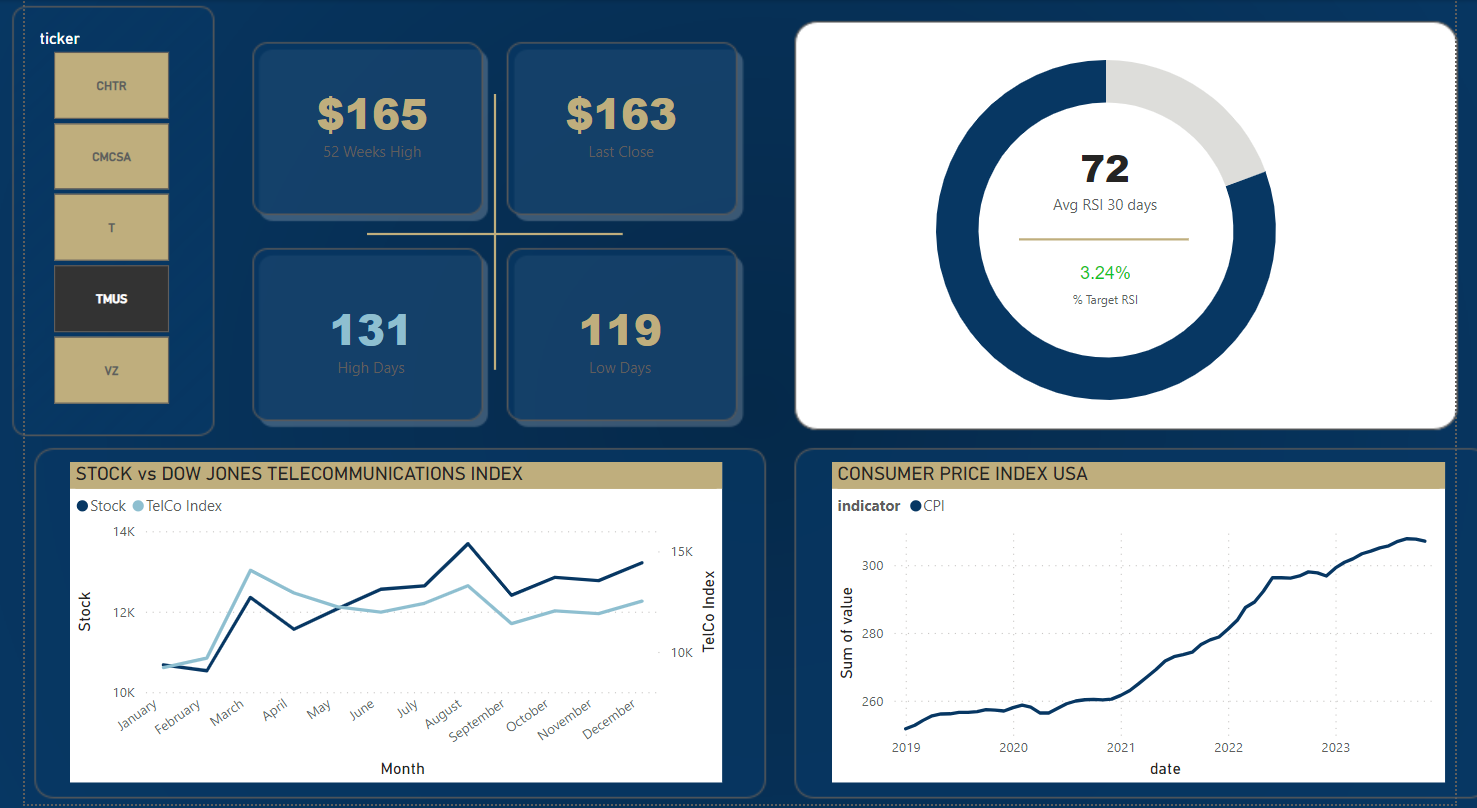

This screenshot's page, from the dashboard's own definition file:
{"tool":"powerbi","page":{"name":"Page 1","canvas":[1280,720],"ordinal":0},"visuals":[{"type":"donutChart","fields":{"Y":["Key_ Indicators.RSI","Key_ Indicators.RSI Target"]},"box":[694.1,10.9,548.1,390.4],"z":0},{"type":"slicer","fields":{"Values":["public stocks.ticker"]},"box":[23.3,21.6,153.5,361.4],"z":1000},{"type":"lineChart","title":"STOCK vs DOW JONES TELECOMMUNICATIONS INDEX","fields":{"Y":["Sum(public stocks.close)"],"Y2":["Sum(public telco_idx.close)"],"Category":["Calendar.Date.Variation.Date Hierarchy.Year","Calendar.Date.Variation.Date Hierarchy.Quarter","Calendar.Date.Variation.Date Hierarchy.Month","Calendar.Date.Variation.Date Hierarchy.Day"]},"box":[44,424.4,583.9,287.2],"z":2000},{"type":"card","fields":{"Values":["Key_ Indicators.52 Weeks High"]},"box":[206,29.6,209.6,159.4],"z":3000},{"type":"lineChart","title":"CONSUMER PRICE INDEX USA","fields":{"Category":["Calendar.Date.Variation.Date Hierarchy.Year","Calendar.Date.Variation.Date Hierarchy.Quarter","Calendar.Date.Variation.Date Hierarchy.Month","Calendar.Date.Variation.Date Hierarchy.Day"],"Y":["Sum(public stocks.ma180)","Sum(public stocks.ma7)"],"Y2":["Sum(public indicators.value)"]},"box":[712.5,424.4,548.6,287.2],"z":4000},{"type":"card","fields":{"Values":["Key_ Indicators.Average RSI"]},"box":[901.6,114,131,90.8],"z":5000},{"type":"card","fields":{"Values":["Key_ Indicators.% Target RSI"]},"box":[895.7,215.4,143.8,74.5],"z":6000},{"type":"shape","box":[889.9,168.8,152,92],"z":7000},{"type":"card","fields":{"Values":["Key_ Indicators.Last Close"]},"box":[427.2,29.6,213.1,159.4],"z":8000},{"type":"card","fields":{"Values":["Key_ Indicators.High Days"]},"box":[205.1,223,209.6,159.4],"z":9000},{"type":"card","fields":{"Values":["Key_ Indicators.Low Days"]},"box":[426.3,223,213.1,159.4],"z":10000},{"type":"shape","box":[307.1,188,229.4,53.5],"z":11000},{"type":"shape","box":[408.8,92.3,43.1,246.7],"z":12000}]}

Visuals, with their boxes in screenshot pixels (x1, y1, x2, y2), scaled from the page's 1280x720 canvas onto the 1477x808 screenshot:
donutChart - Key_ Indicators.RSI x Key_ Indicators.RSI Target: (left=801, top=12, right=1433, bottom=450)
slicer - public stocks.ticker: (left=27, top=24, right=204, bottom=430)
"STOCK vs DOW JONES TELECOMMUNICATIONS INDEX" lineChart: (left=51, top=476, right=725, bottom=799)
card - Key_ Indicators.52 Weeks High: (left=238, top=33, right=480, bottom=212)
"CONSUMER PRICE INDEX USA" lineChart: (left=822, top=476, right=1455, bottom=799)
card - Key_ Indicators.Average RSI: (left=1040, top=128, right=1192, bottom=230)
card - Key_ Indicators.% Target RSI: (left=1034, top=242, right=1199, bottom=325)
shape: (left=1027, top=189, right=1202, bottom=293)
card - Key_ Indicators.Last Close: (left=493, top=33, right=739, bottom=212)
card - Key_ Indicators.High Days: (left=237, top=250, right=479, bottom=429)
card - Key_ Indicators.Low Days: (left=492, top=250, right=738, bottom=429)
shape: (left=354, top=211, right=619, bottom=271)
shape: (left=472, top=104, right=521, bottom=380)
